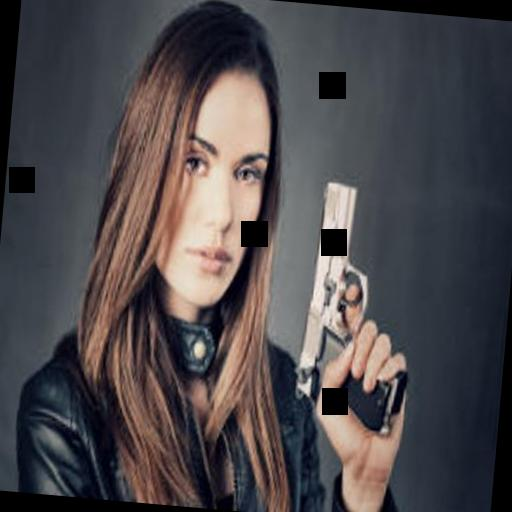Handgun: (288, 170, 424, 434)
